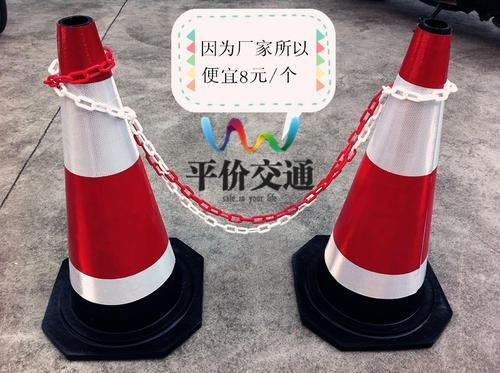cone_barrel: (32, 20, 181, 334), (315, 12, 464, 325)
